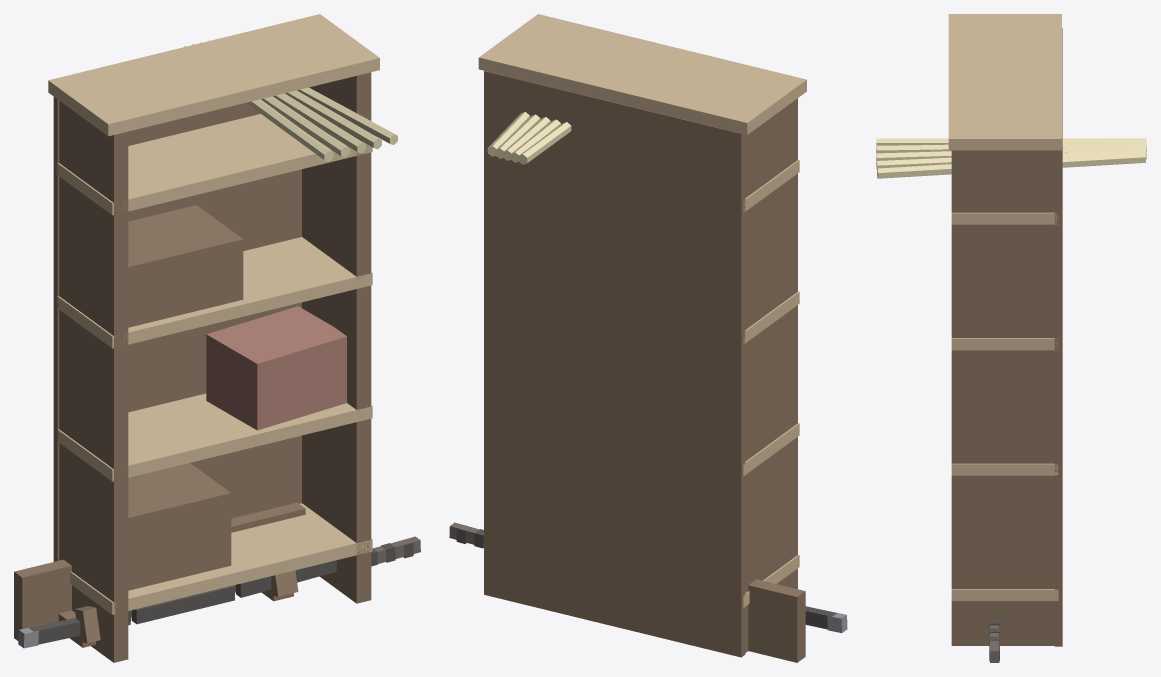
Rendered from Prop_DojoFixtures.fbx.
The picture shows the model from 3 angles, left to right: view 1: azimuth 30°, elevation 25°; view 2: azimuth 150°, elevation 25°; view 3: azimuth 270°, elevation 25°; orthographic projection. The views are drawn at different scales.
Parts seen in each view (by area): view 1: Prop_Shelf_Intact, Prop_KatanaRack; view 2: Prop_Shelf_Intact, Prop_KatanaRack; view 3: Prop_Shelf_Intact, Prop_KatanaRack.
Boxes of the visible parts, x1,y1,x2,y2 form: Prop_Shelf_Intact: (48, 14, 397, 662); Prop_KatanaRack: (14, 502, 420, 648); Prop_Shelf_Intact: (478, 14, 806, 657); Prop_KatanaRack: (449, 522, 847, 662); Prop_Shelf_Intact: (876, 14, 1146, 646); Prop_KatanaRack: (989, 620, 999, 662).
Size of the model in its own units: 137 by 179 by 86.06.
